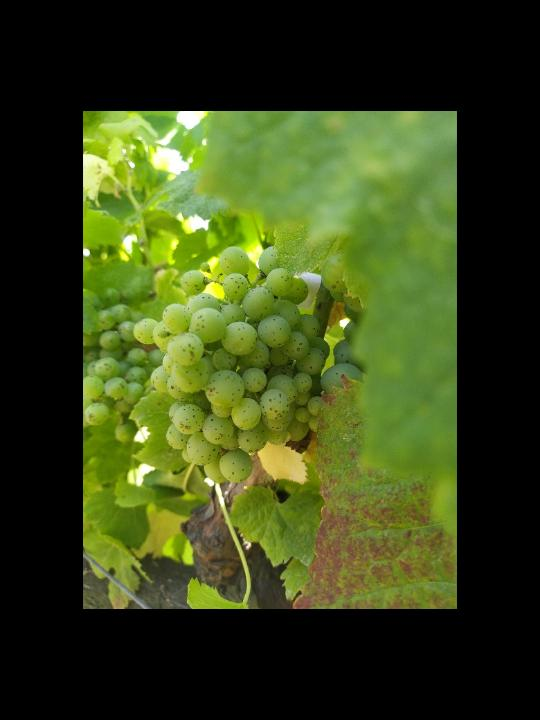grape: (133, 242, 334, 486)
